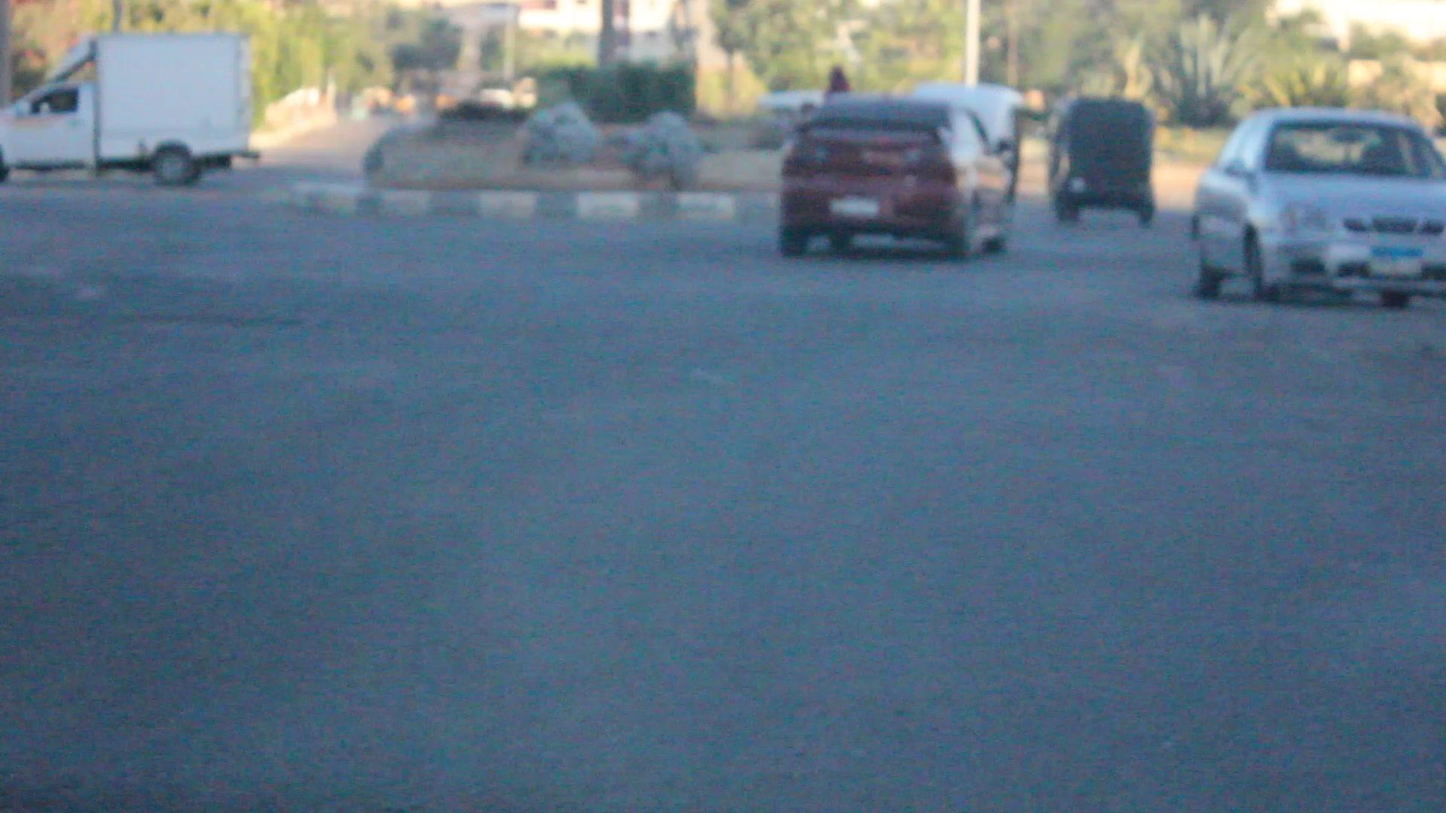Bump: (0, 263, 1445, 364)
